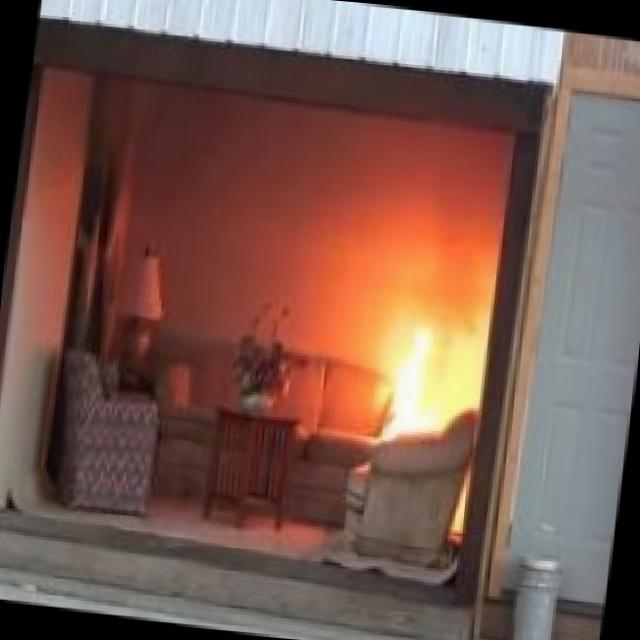fire: (375, 288, 466, 420)
